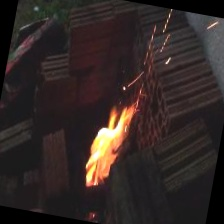fire: (72, 5, 176, 200)
